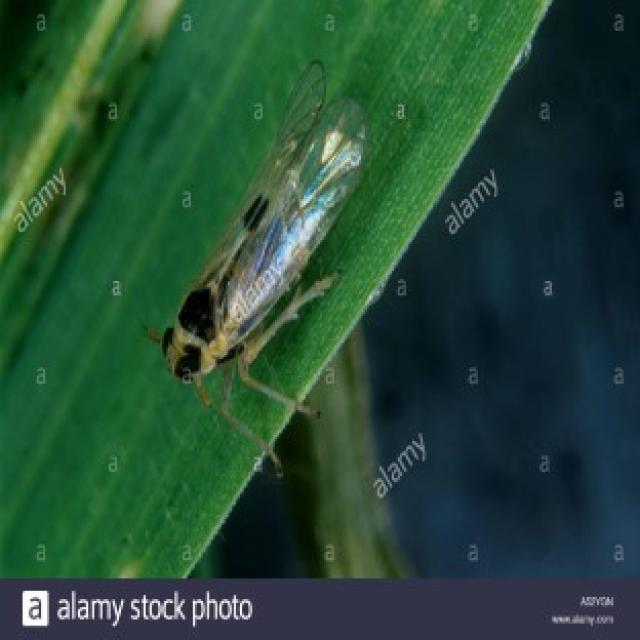brown plant hopper: (160, 62, 363, 475)
